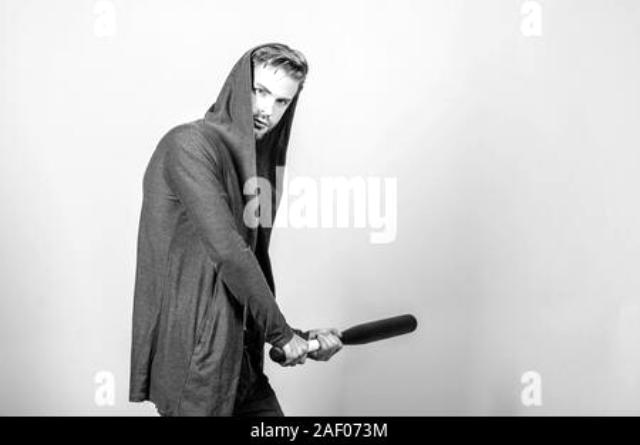baseball bat: (271, 312, 417, 362)
